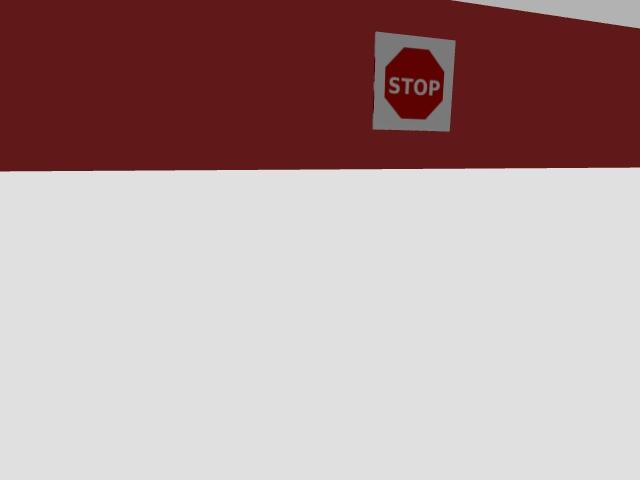stop: (373, 32, 454, 131)
